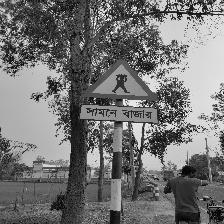Market-in-front: (79, 59, 160, 124)
